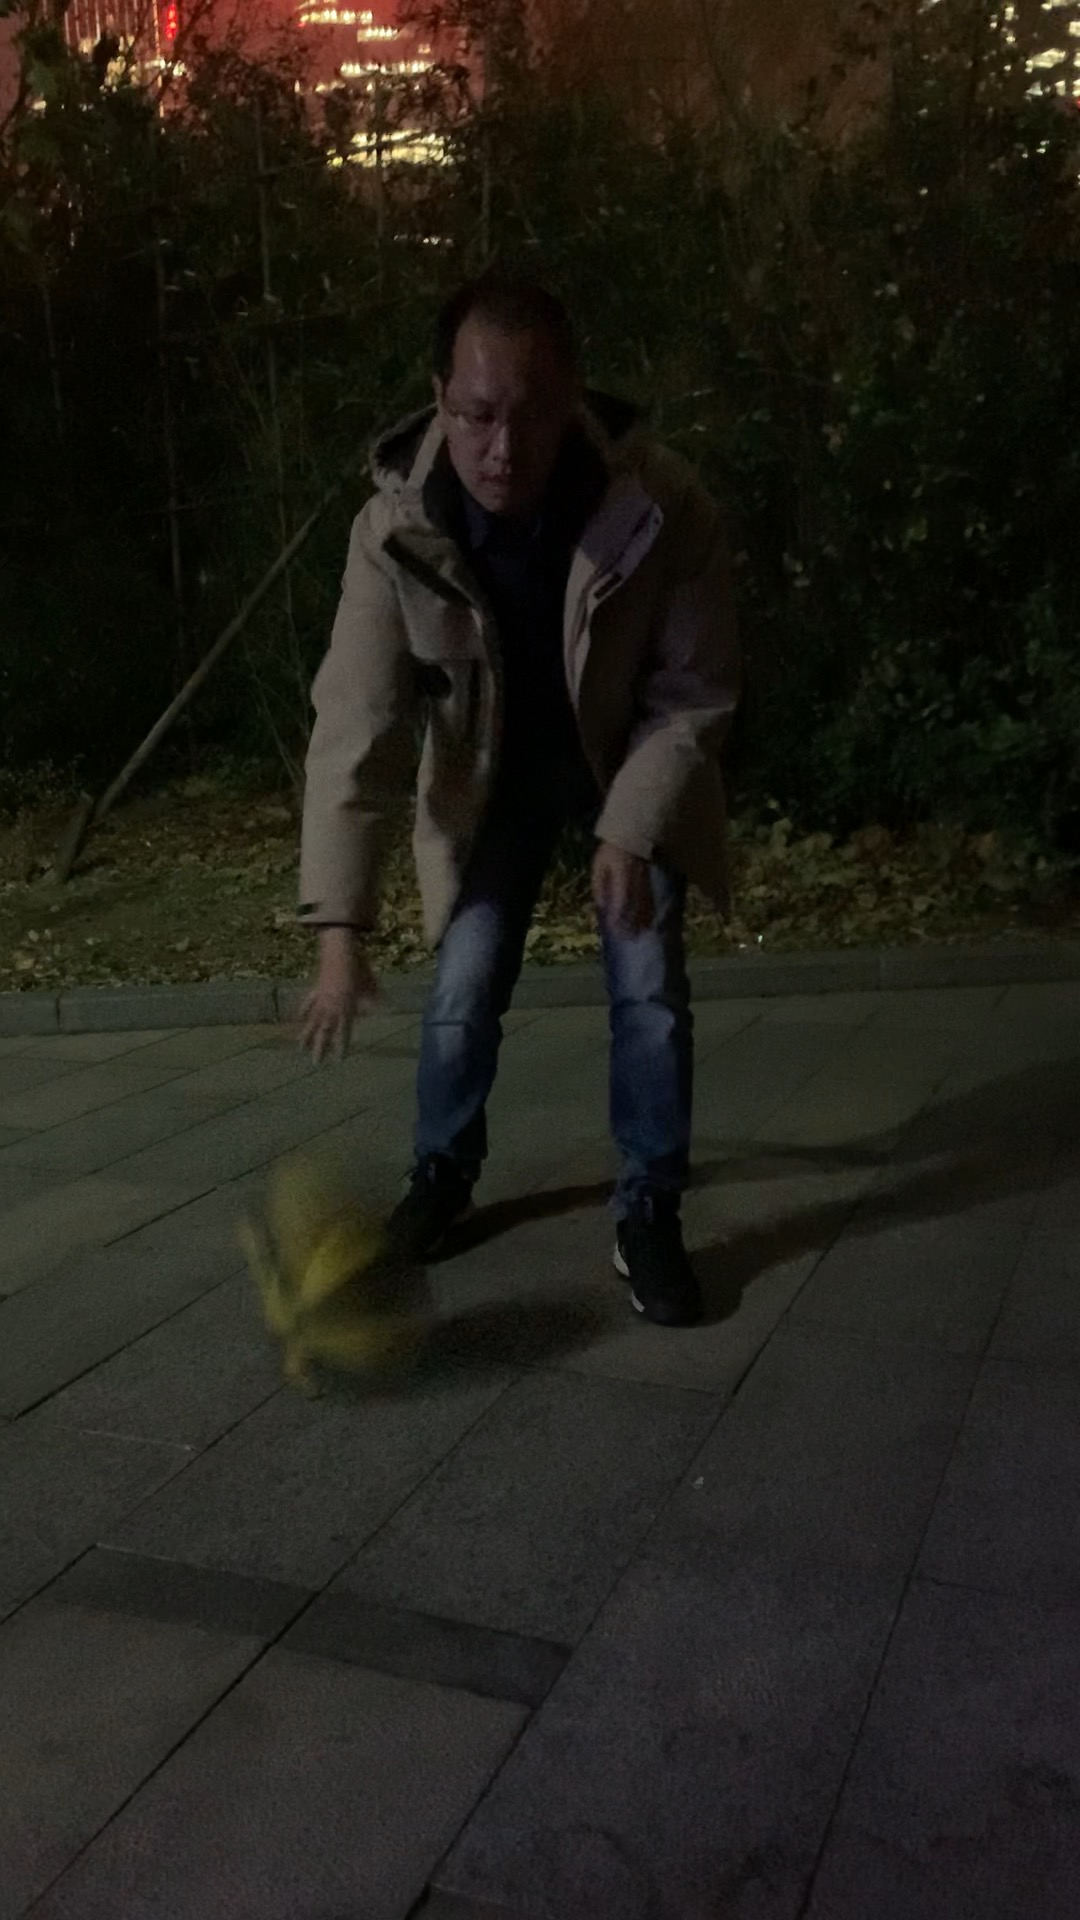ball: (262, 1218, 446, 1400)
